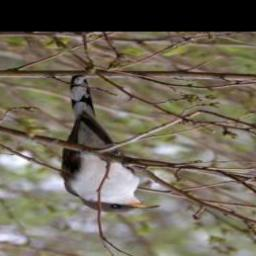Cuckoo: (57, 77, 160, 215)
